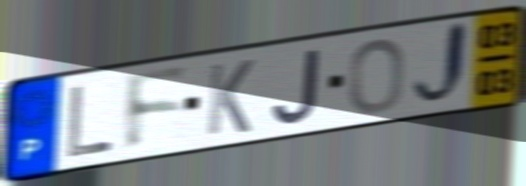F: (123, 64, 192, 156)
J: (409, 17, 471, 113), (269, 46, 324, 128)
K: (204, 57, 257, 139)
L: (64, 82, 116, 161)
O: (346, 35, 408, 116)
